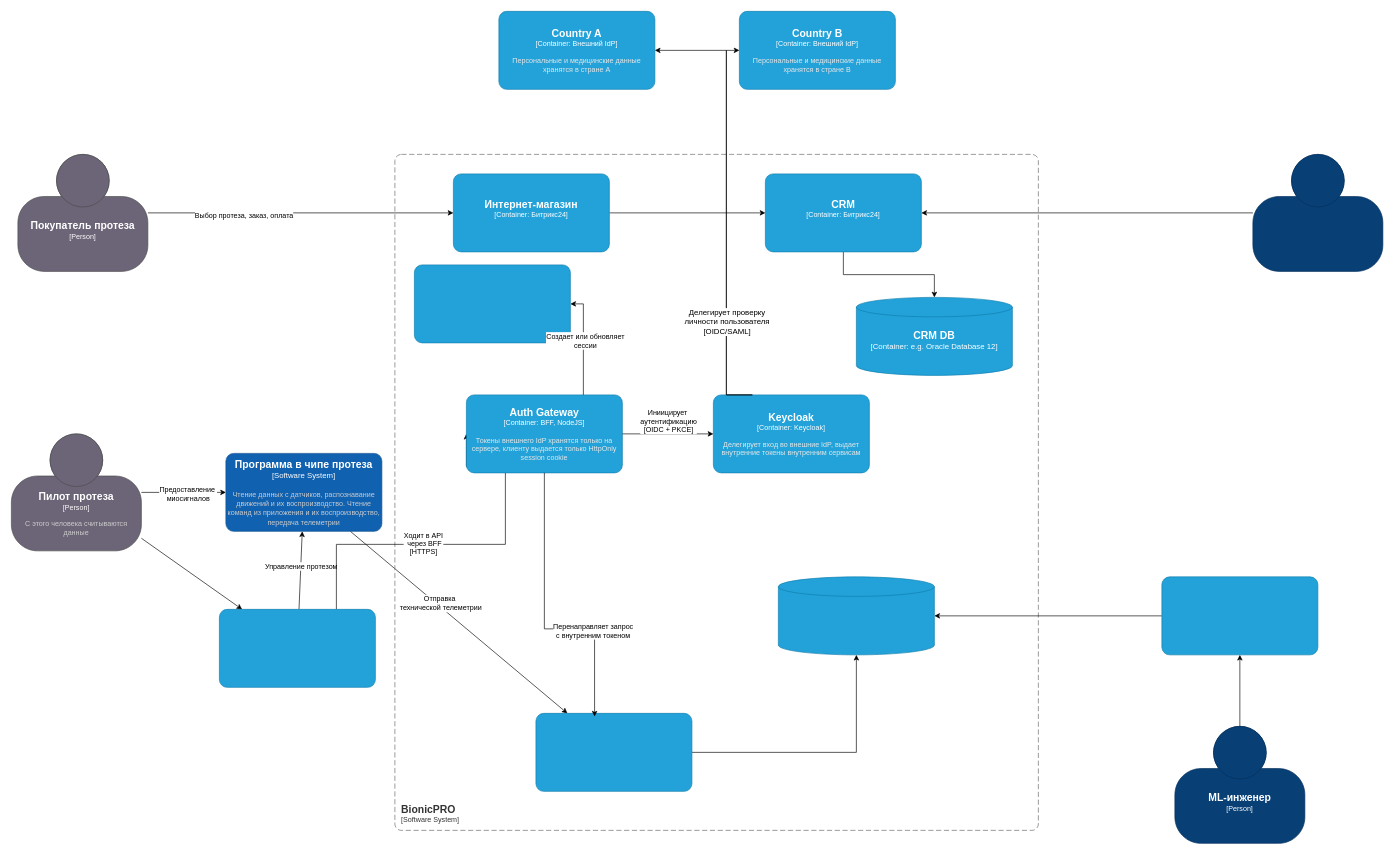
Some shapes in this 1394 by 855 pixel diagram are drawn without their labels. The centre of each missing label's shape, as x and y in pixels:
"API [Container: e.g. SpringBoot, ElasticSearch, etc.]" belongs at (x=613, y=752).
"cli tool [Container: e.g. SpringBoot, ElasticSearch, etc.]" belongs at (x=1239, y=615).
"Session Storage [Container: Redis] Хранит сессии и служебные данные" belongs at (x=492, y=303).
"База данных [Container: PostgreSQL]" belongs at (x=856, y=615).
"Оператор производства [Person]" belongs at (x=1317, y=212).
"Приложение для донастройки протеза [Container: iOD, Android]" belongs at (x=297, y=648).
